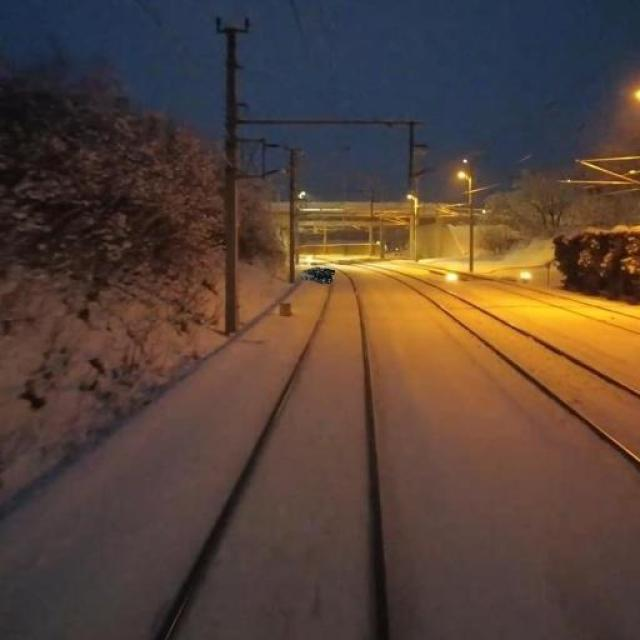Stone: (301, 264, 343, 289)
